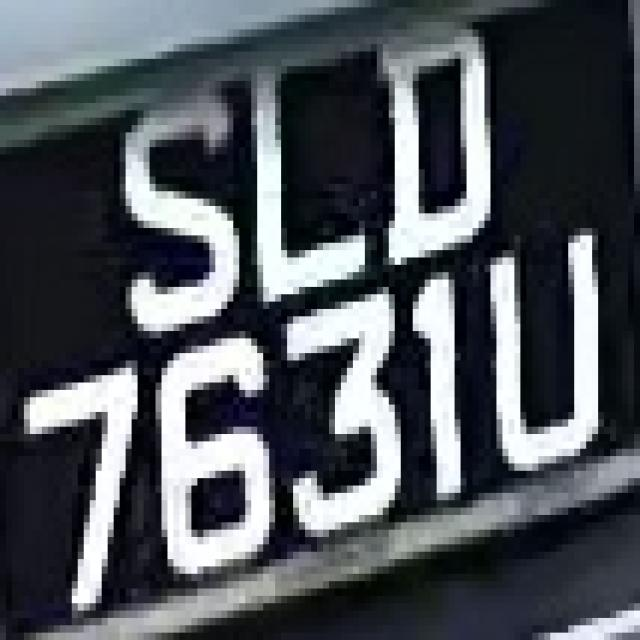1: (394, 243, 466, 522)
3: (269, 272, 413, 552)
6: (138, 338, 281, 582)
7: (11, 366, 137, 613), (0, 4, 2, 8)
D: (365, 29, 508, 258)
L: (227, 66, 377, 316)
S: (102, 88, 257, 346)
U: (473, 214, 616, 486)
